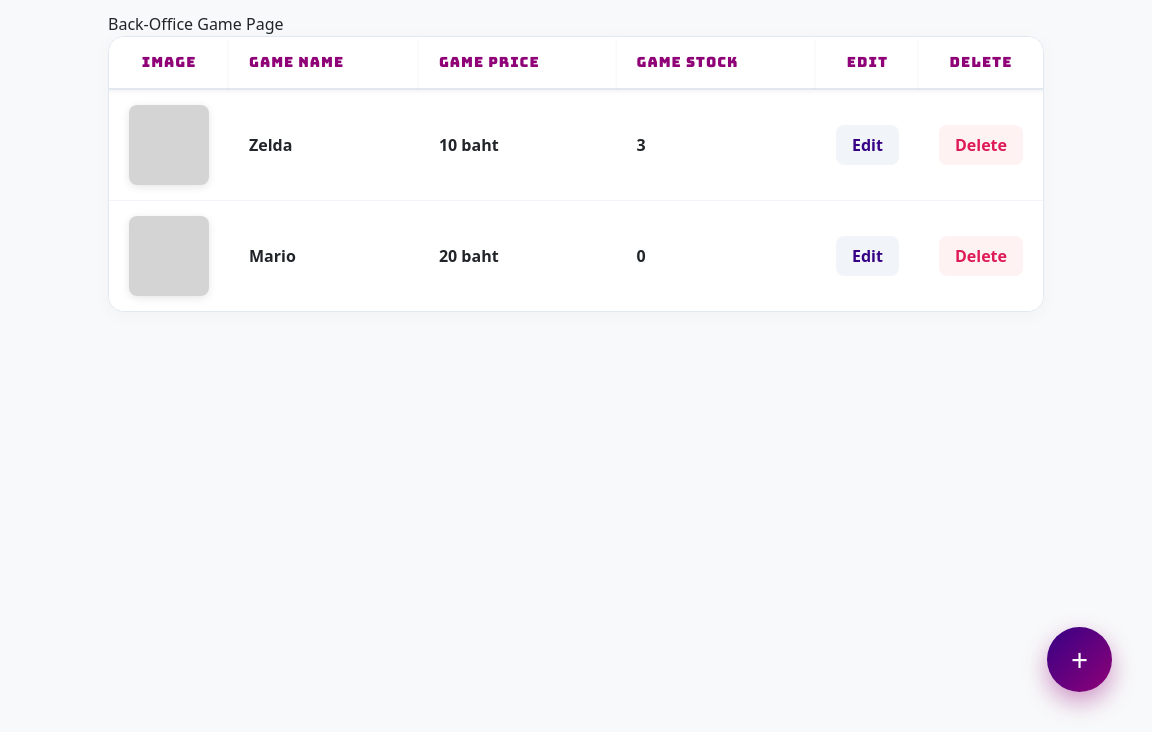
Test case: AdminGames › deletes after confirmation
Click the button "Delete" in the row of "Zelda" at (981, 145), box top-left (939, 125), bottom-right (1023, 165)
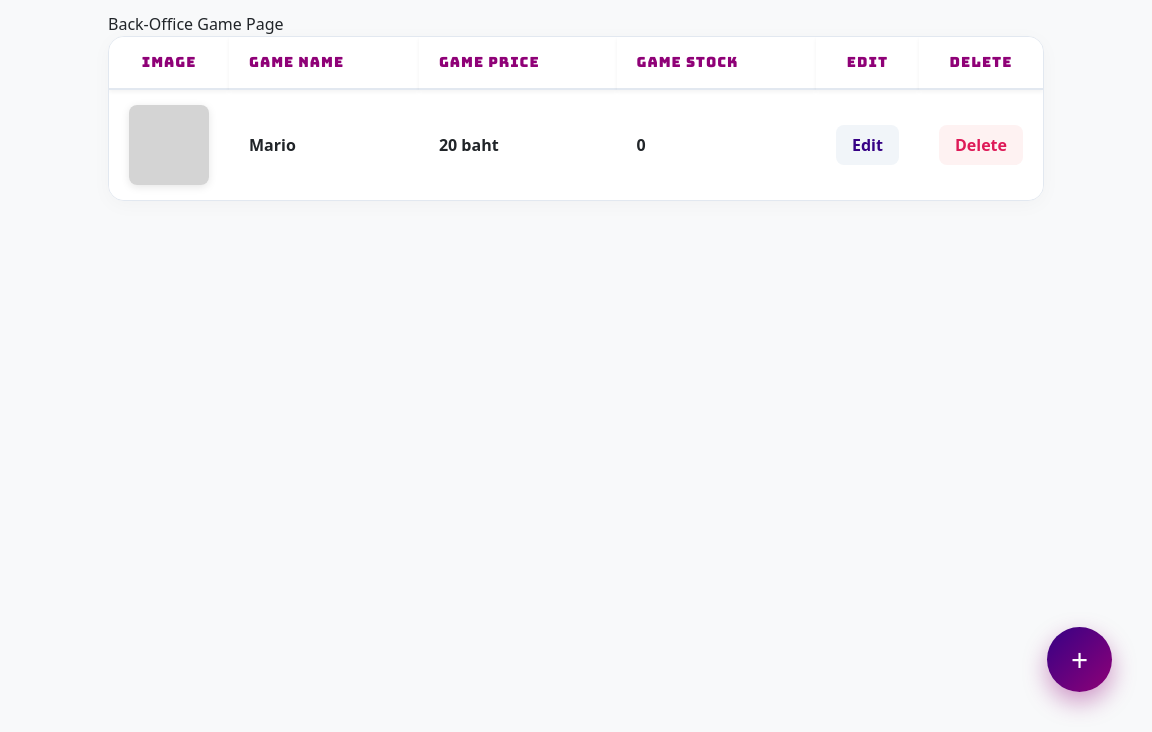
Now the number of rows with test id "game-row" is 1, box top-left (109, 90), bottom-right (1043, 200)
Now the text "Zelda" is gone
